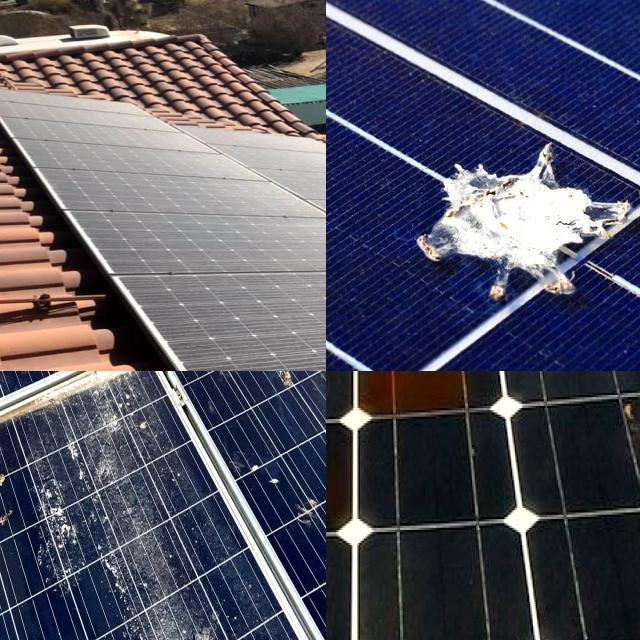bird: (417, 133, 640, 312), (27, 464, 88, 592), (101, 384, 152, 492), (151, 553, 211, 640), (158, 371, 245, 413), (250, 371, 316, 411), (0, 371, 42, 432), (99, 371, 138, 430), (58, 371, 111, 414), (51, 609, 122, 640), (293, 469, 326, 535), (0, 450, 22, 540), (262, 371, 322, 403), (0, 371, 41, 409), (192, 371, 246, 394), (0, 371, 18, 440), (0, 606, 36, 640), (0, 371, 24, 409), (0, 371, 19, 413)
dust: (159, 274, 326, 347), (103, 209, 326, 261), (63, 166, 280, 206), (23, 113, 178, 150)
shadow: (326, 430, 420, 538), (342, 371, 490, 430)
